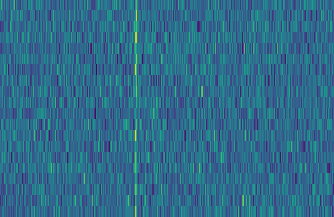signal: (130, 0, 139, 217)
